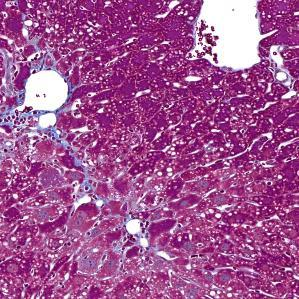fibrosis: (4, 115, 68, 161)
